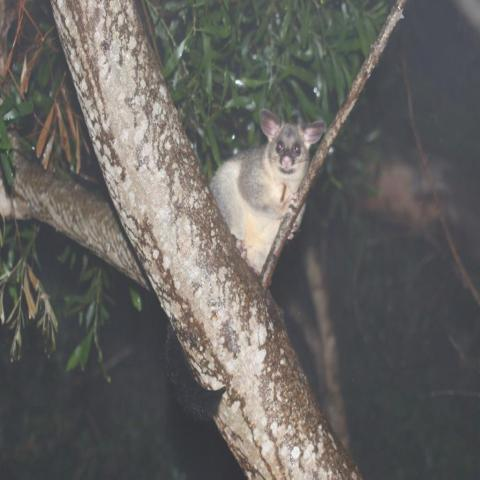small_animal: (212, 106, 327, 277)
